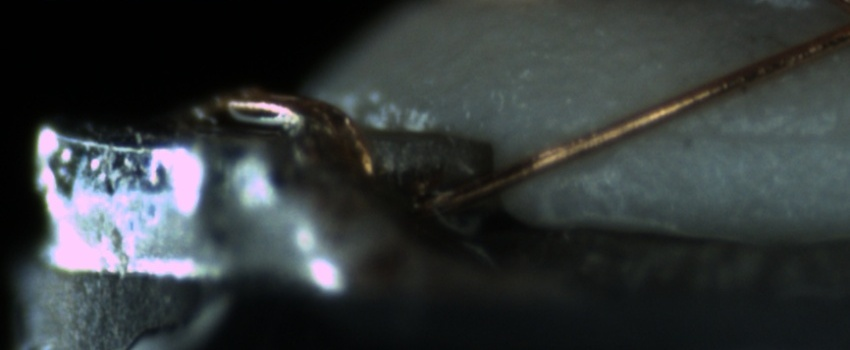DL: (622, 102, 850, 166)
TE: (204, 85, 395, 195)
